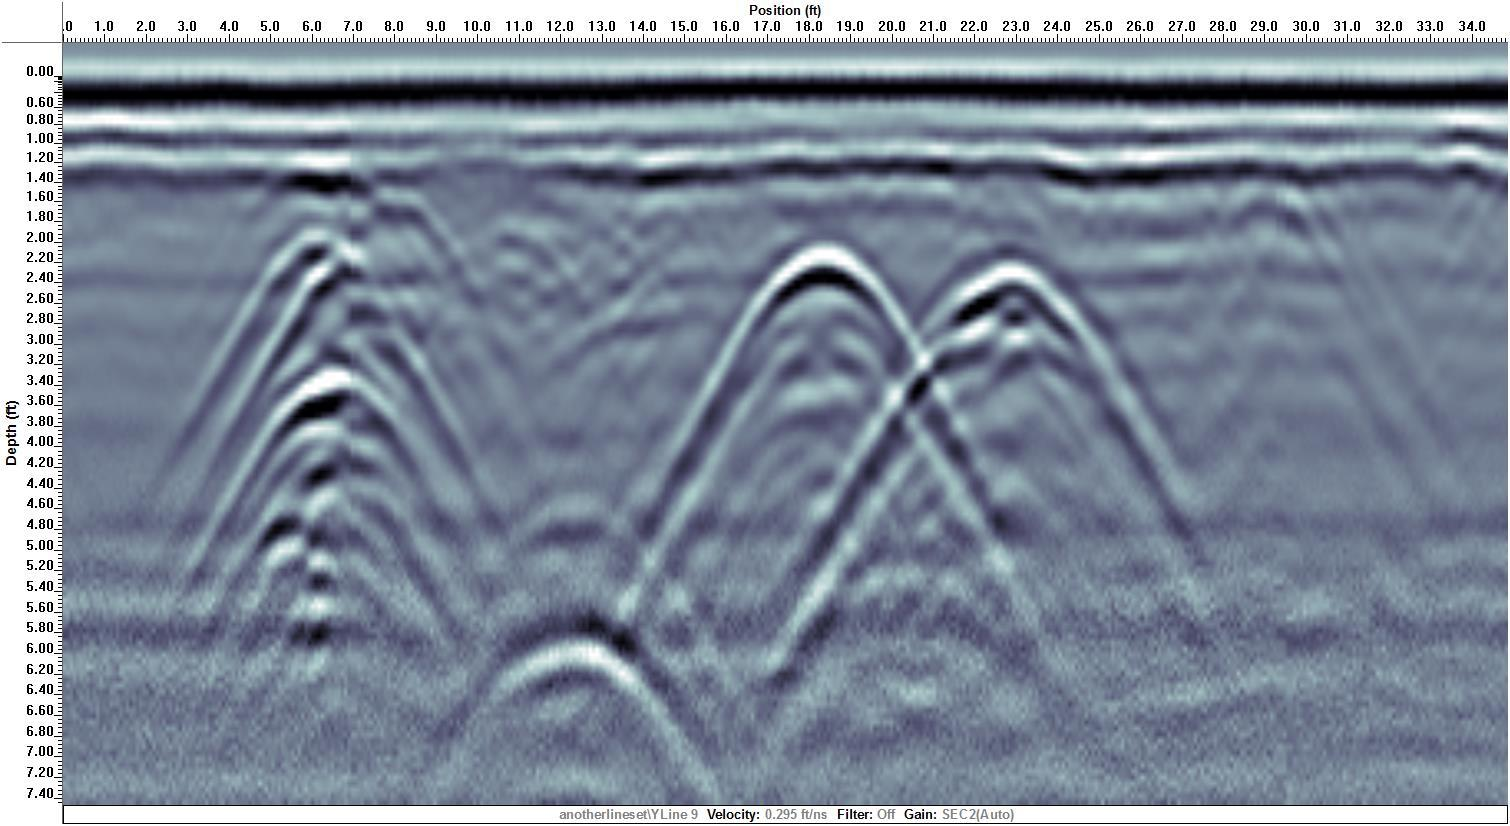hyperbola: (891, 242, 1157, 517), (667, 220, 944, 480), (238, 337, 418, 611), (462, 599, 704, 792)
